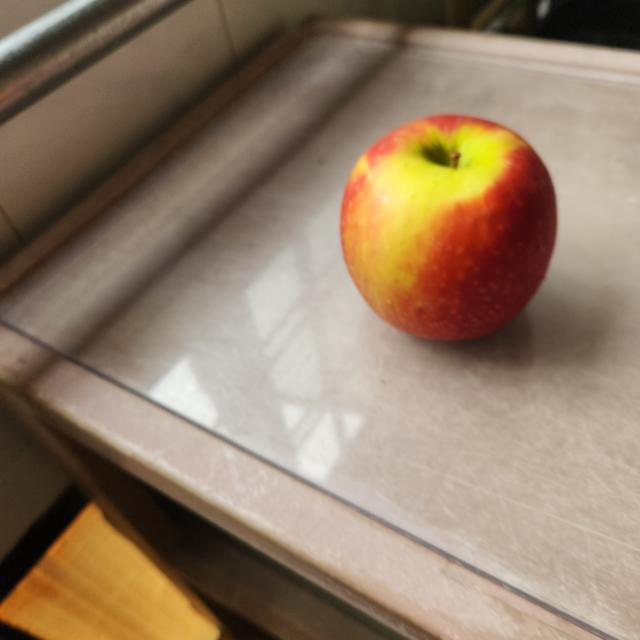apple: (336, 109, 565, 351)
